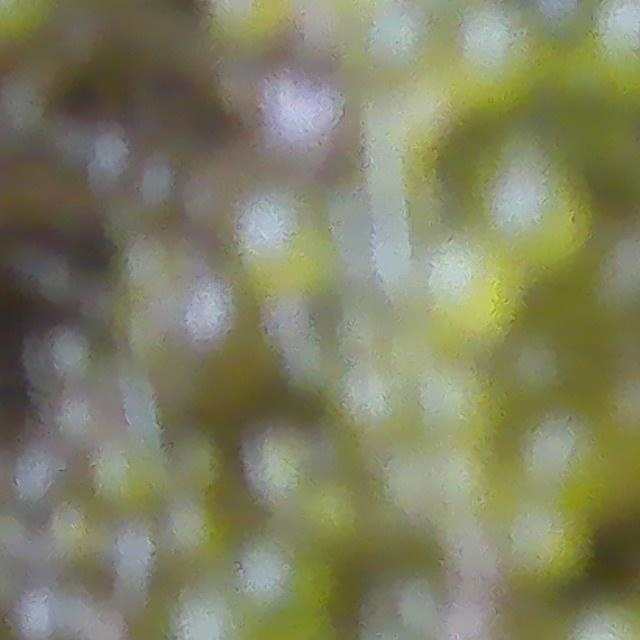SeaGrape: (414, 238, 534, 338), (477, 161, 583, 274), (453, 0, 555, 107), (236, 533, 333, 626), (297, 476, 371, 554), (365, 7, 427, 72)
